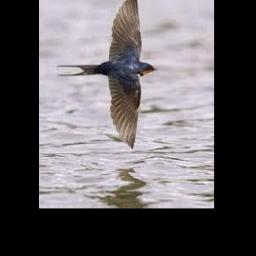Swallow: (55, 0, 157, 149)
